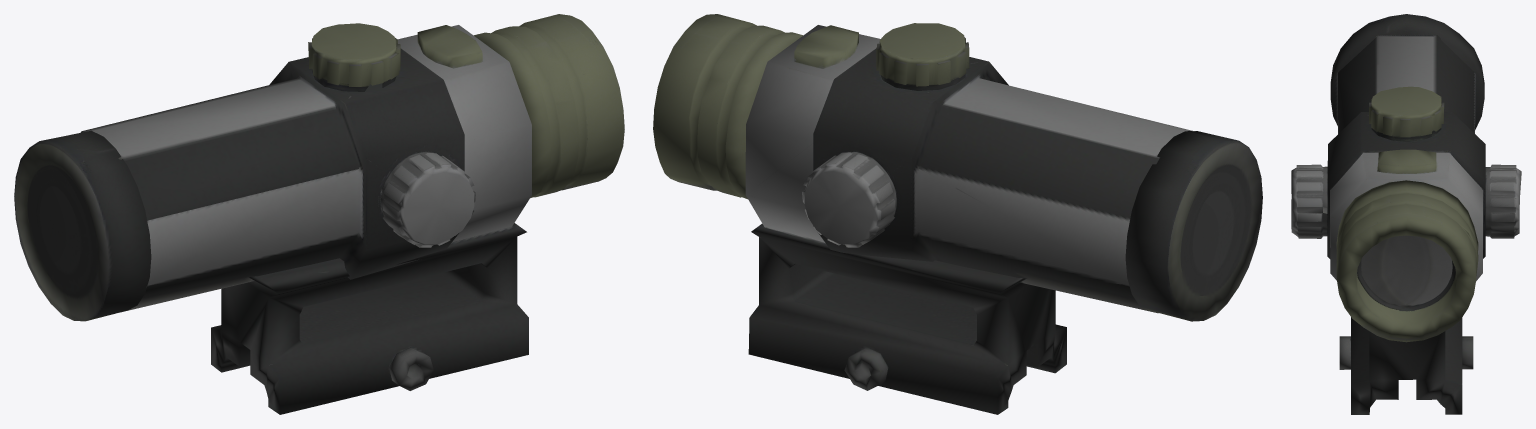
Rendered from sight_prism_2x.glb.
3 views of the same model, side by side, from view 1: azimuth 30°, elevation 25°; view 2: azimuth 150°, elevation 25°; view 3: azimuth 270°, elevation 25° (orthographic). The views are drawn at different scales.
Size of the model in its own units: 0.957 by 0.5688 by 0.4575.
1 material, 1 textured.
